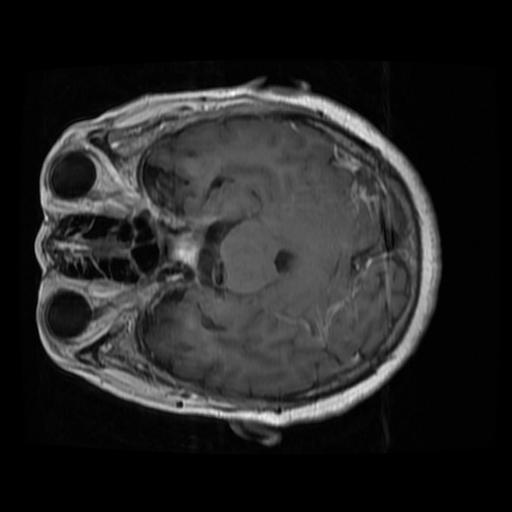pituitary tumour: (163, 231, 203, 270)
